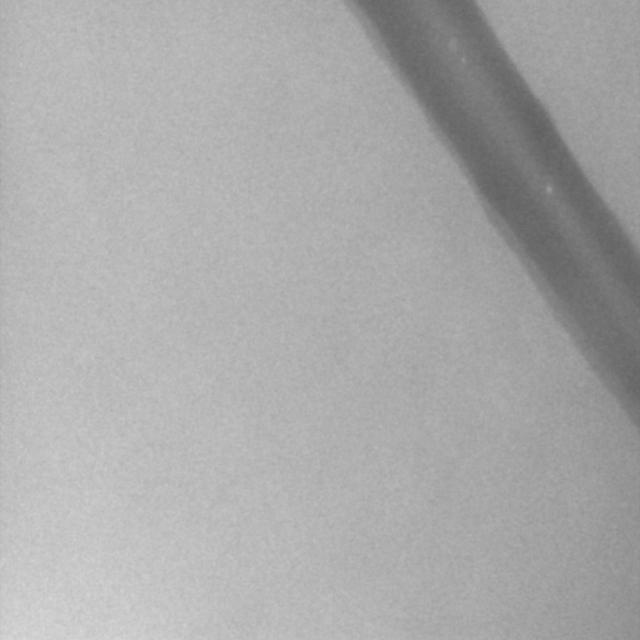air-hole: (547, 182, 554, 195), (450, 38, 458, 46), (464, 55, 469, 66)
